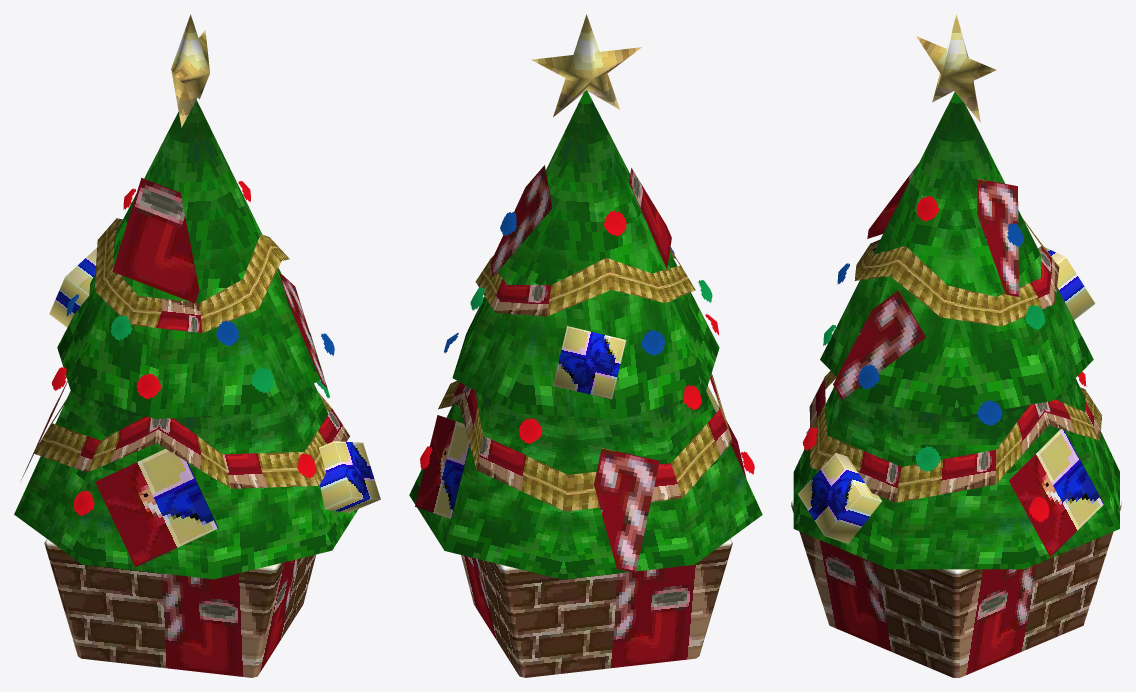
Rendered from int_oth_Xmas_S.dae.
The picture shows the model from 3 angles, left to right: view 1: azimuth 30°, elevation 25°; view 2: azimuth 150°, elevation 25°; view 3: azimuth 270°, elevation 25°; orthographic projection.
Parts seen in each view (by area): view 1: int_oth_Xmas_S; view 2: int_oth_Xmas_S; view 3: int_oth_Xmas_S.
Boxes of the visible parts, x1,y1,x2,y2 form: int_oth_Xmas_S: (14,14,380,677); int_oth_Xmas_S: (409,14,762,677); int_oth_Xmas_S: (791,14,1121,677).
Bounding box in the file's own units: 27.61 × 56.2 × 27.61.
4 materials, 4 textured.
